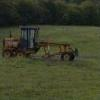Tractor: (3, 21, 78, 67)
